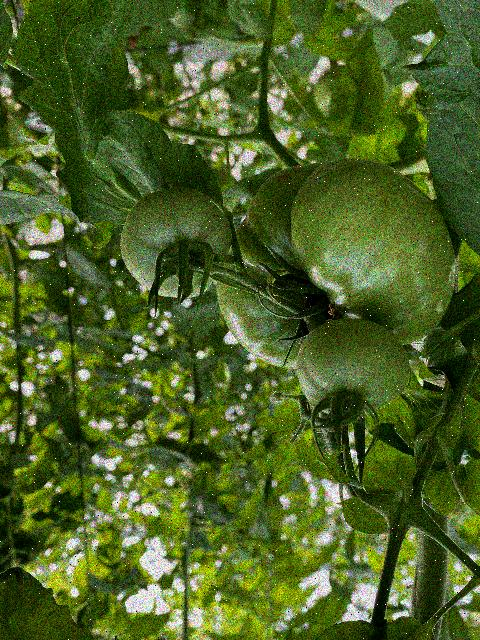b_green: (216, 158, 455, 368), (120, 187, 233, 300), (296, 319, 410, 414)
